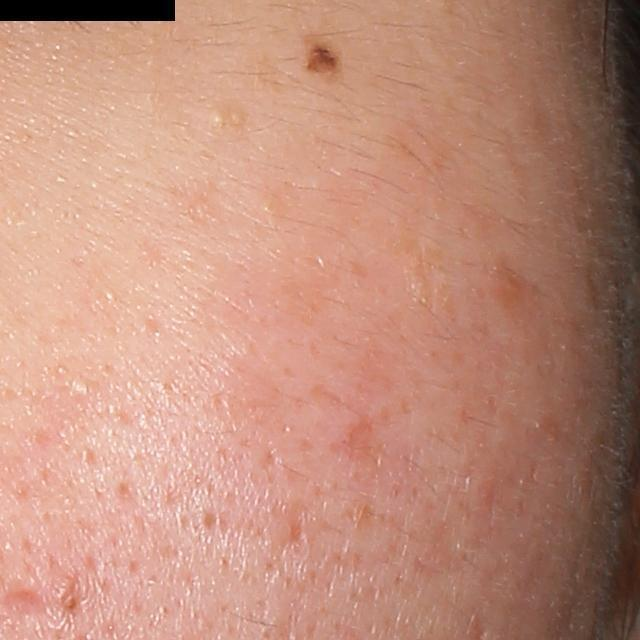atrophic_scar: (5, 586, 45, 615)
melasma: (484, 252, 543, 317), (164, 181, 217, 226)
nevus: (301, 40, 350, 80)
